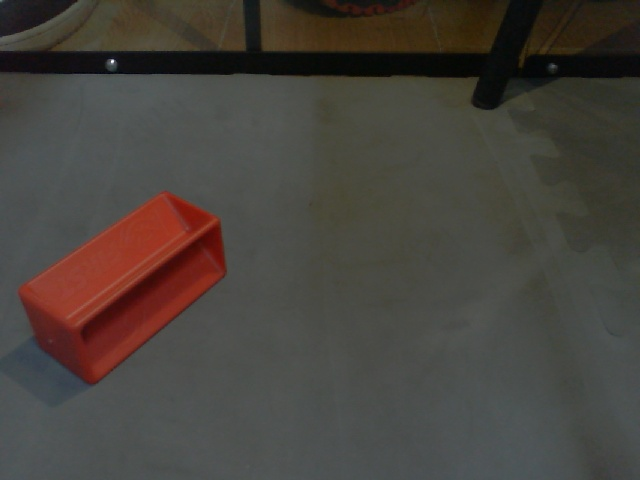RedSample: (16, 189, 229, 390)
